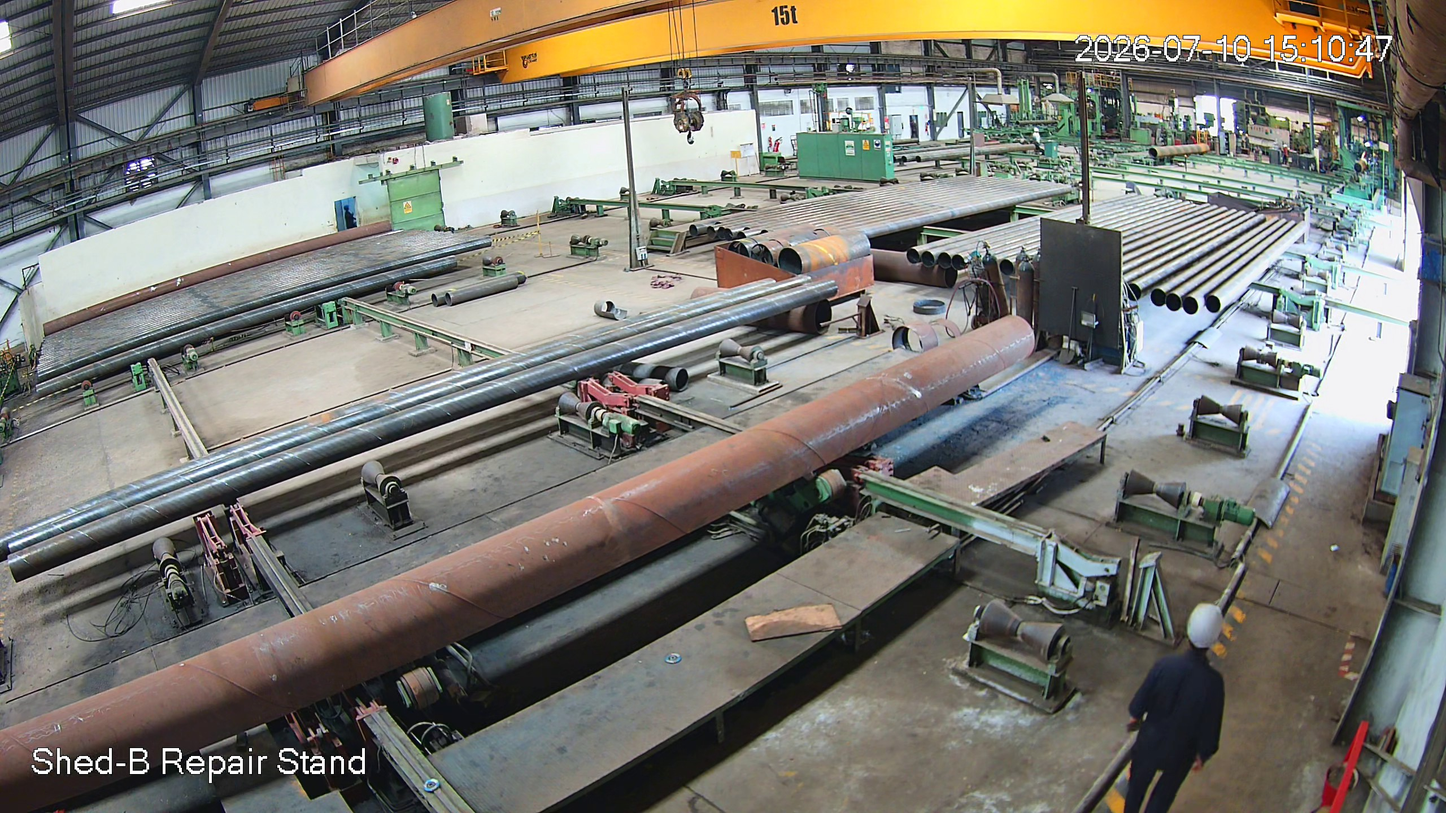Helmet: (1177, 596, 1248, 670)
Person: (1120, 603, 1246, 813)
